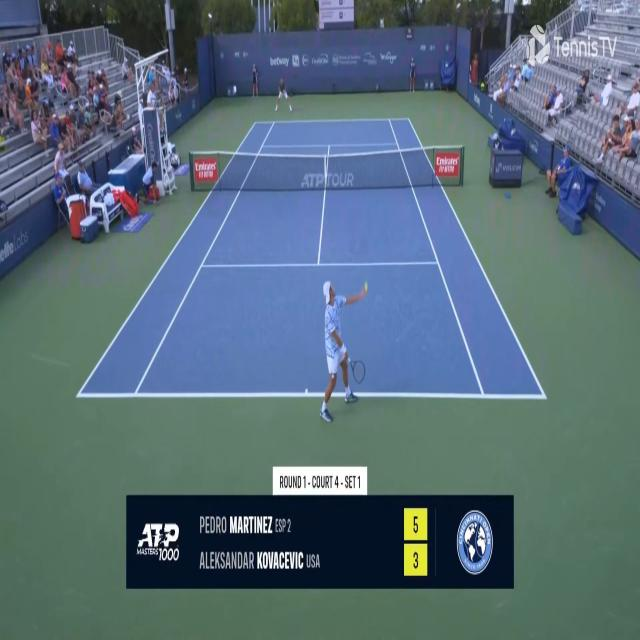tennis-player: (317, 277, 370, 426), (274, 76, 294, 115)
